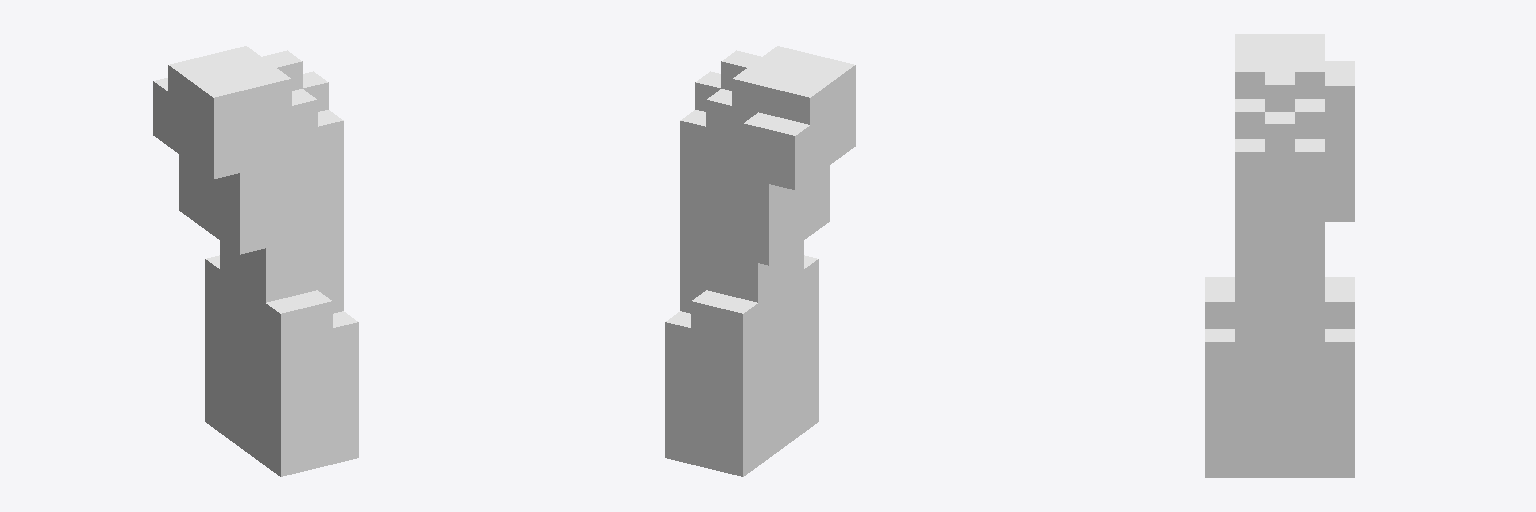
File: anubis_vox-3-armR.obj
3 views of the same model, side by side, from view 1: azimuth 30°, elevation 25°; view 2: azimuth 150°, elevation 25°; view 3: azimuth 270°, elevation 25° (orthographic).
Visible parts, largest first — view 1: armR; view 2: armR; view 3: armR.
Part boxes in pixels (x1,y1,x2,y2): armR: (153, 46, 358, 476); armR: (665, 46, 855, 476); armR: (1205, 34, 1354, 477).
Size of the model in its own units: 0.5 by 1.4 by 0.5.